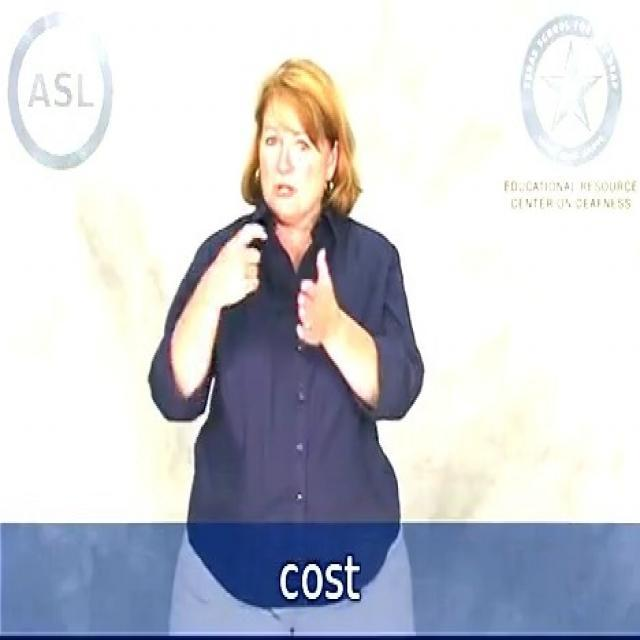cost: (212, 212, 342, 353)
